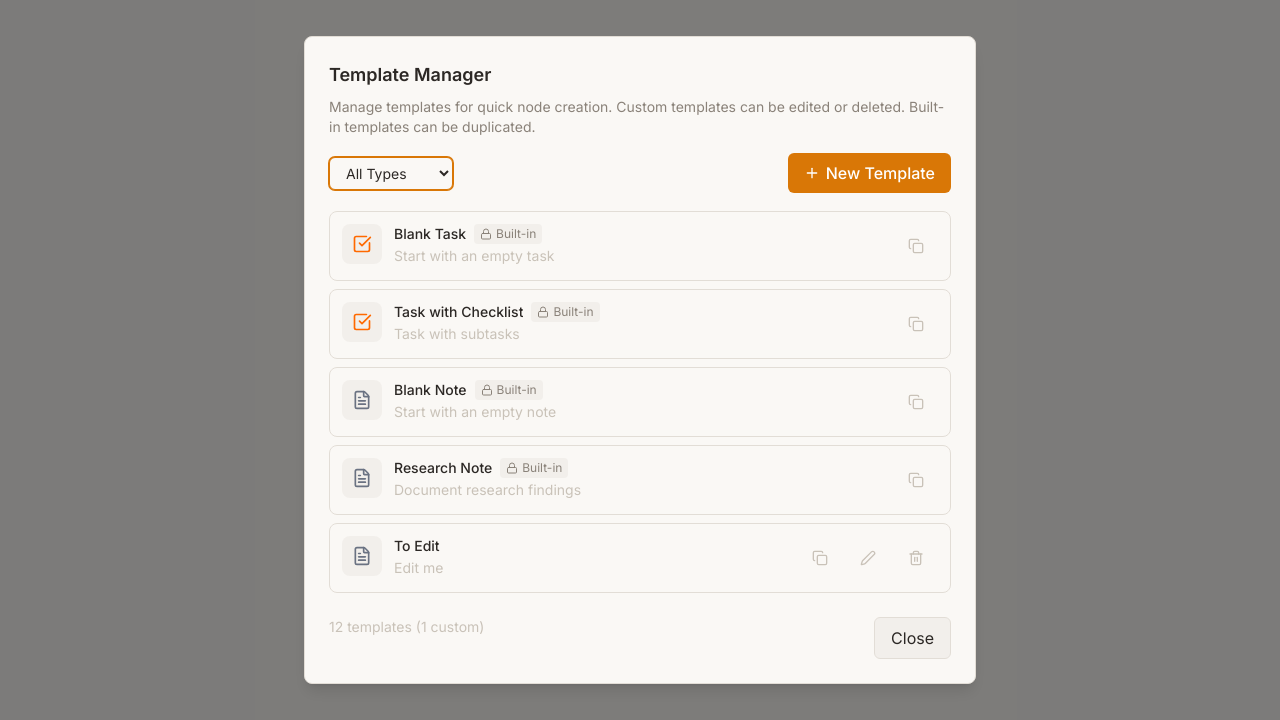
TemplateManager › editing templates › opens edit dialog when clicking edit button
The width and height of the screenshot is (1280, 720).
(page scrolled)
// Click the edit button for our specific template
Click the button named "Edit To Edit": (868, 558) [846,536,890,580]
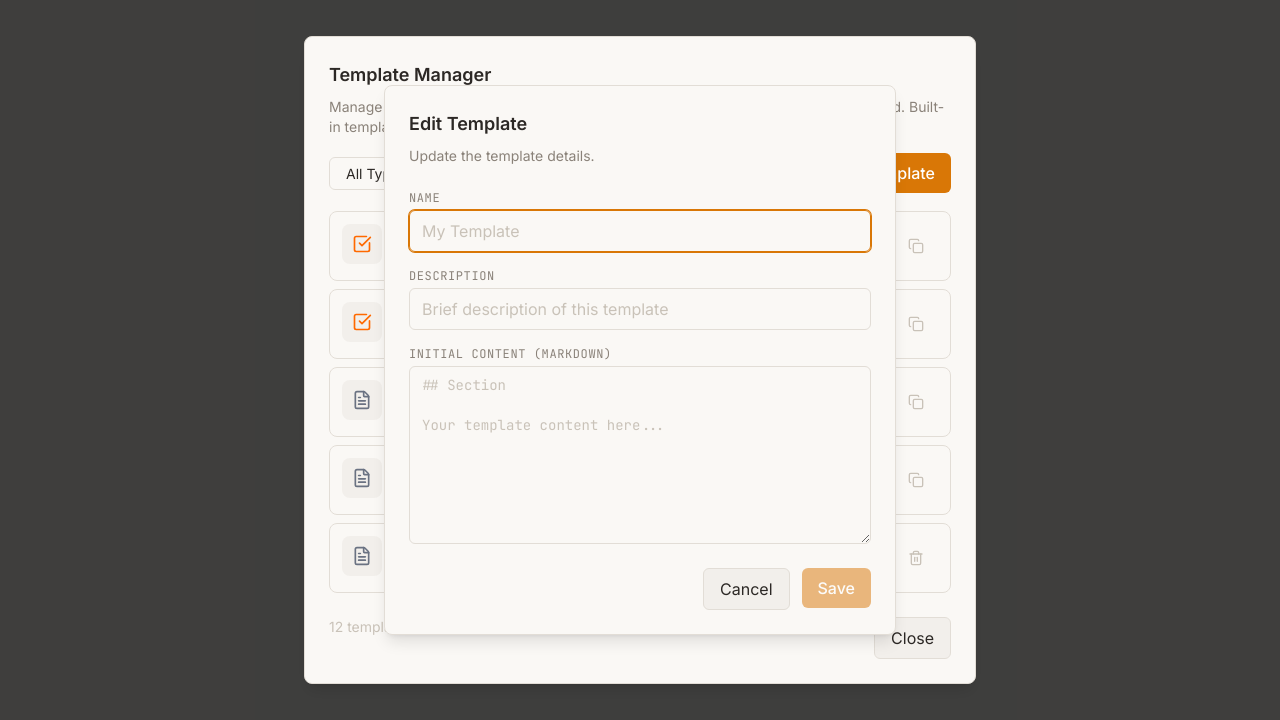
Expected: the heading "Edit Template" is shown, [409,113,527,134]
Expected: the button "Save" is shown, [802,568,871,608]
